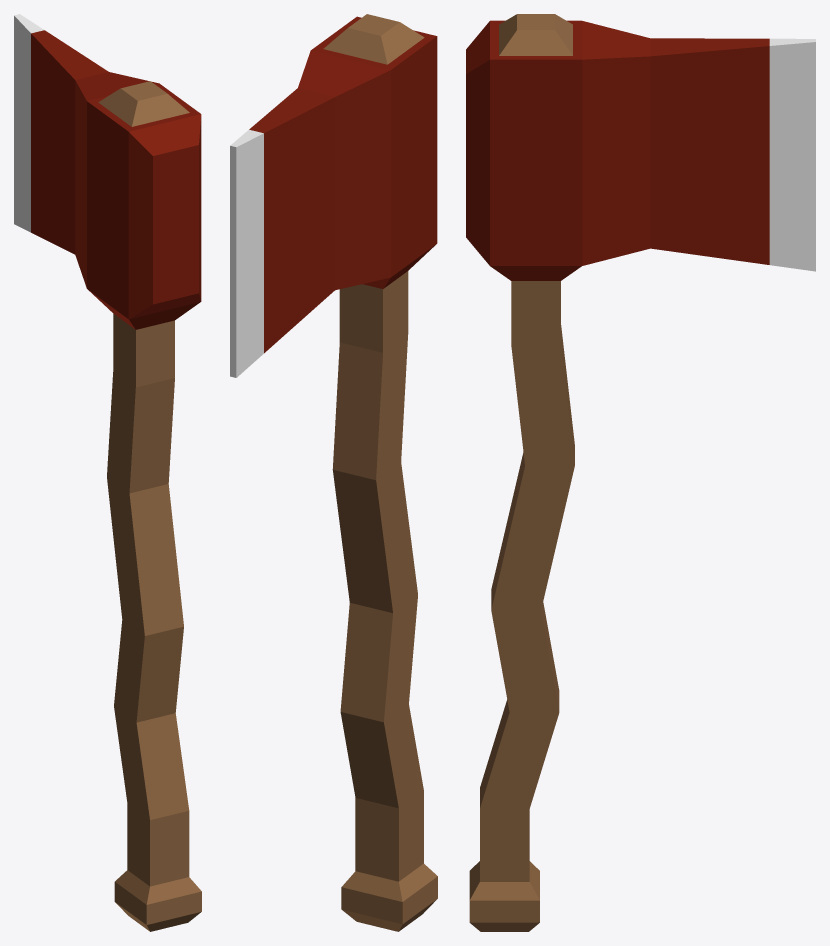
The model's file is Axe.fbx.
3 views of the same model, side by side, from view 1: azimuth 30°, elevation 25°; view 2: azimuth 150°, elevation 25°; view 3: azimuth 270°, elevation 25° (orthographic). The views are drawn at different scales.
Visible parts, largest first — view 1: Axe; view 2: Axe; view 3: Axe.
Part boxes in pixels (x1,y1,x2,y2): Axe: (14,14,201,931); Axe: (230,14,437,931); Axe: (466,14,815,931).
Bounding box in the file's own units: 0.1415 × 1.52 × 0.5372.
